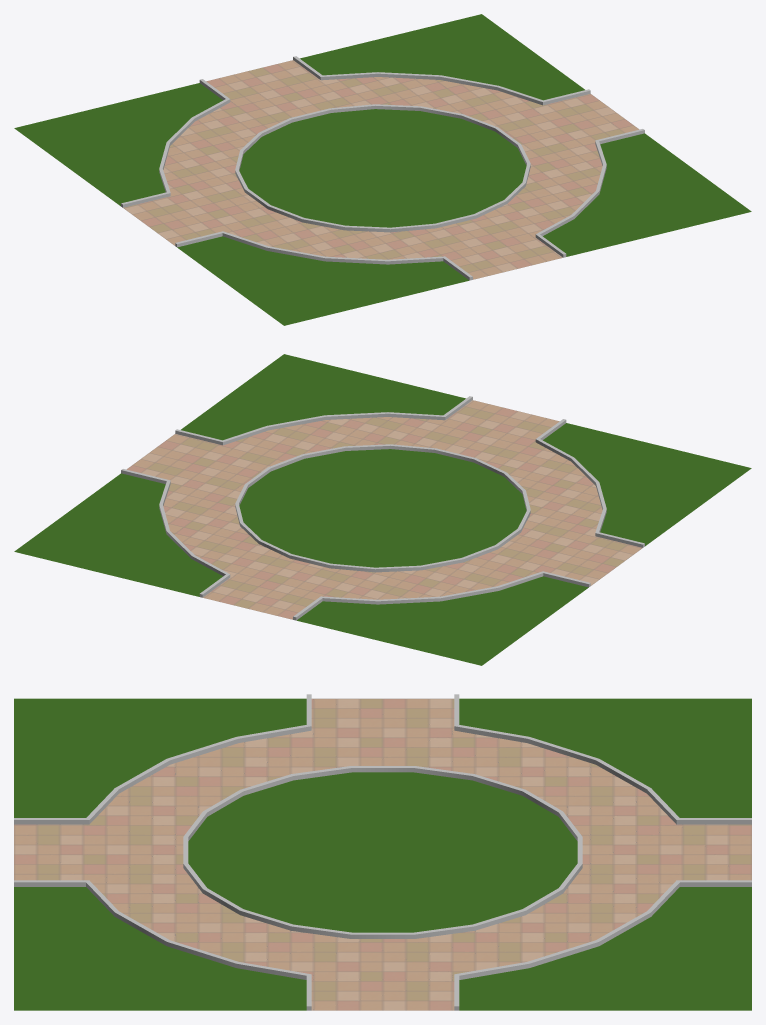
The model's file is Park_Sidewalk_10.fbx.
3 views of the same model, one above another, from view 1: azimuth 30°, elevation 25°; view 2: azimuth 150°, elevation 25°; view 3: azimuth 270°, elevation 25° (orthographic). The views are drawn at different scales.
Visible parts, largest first — view 1: Park_Sidewalk_10; view 2: Park_Sidewalk_10; view 3: Park_Sidewalk_10.
Boxes of the visible parts, box(x1,y1,x2,y2) form: Park_Sidewalk_10: box(14, 14, 751, 325); Park_Sidewalk_10: box(14, 354, 751, 665); Park_Sidewalk_10: box(14, 694, 751, 1010).
Bounding box in the file's own units: 3000 × 3000 × 20.
